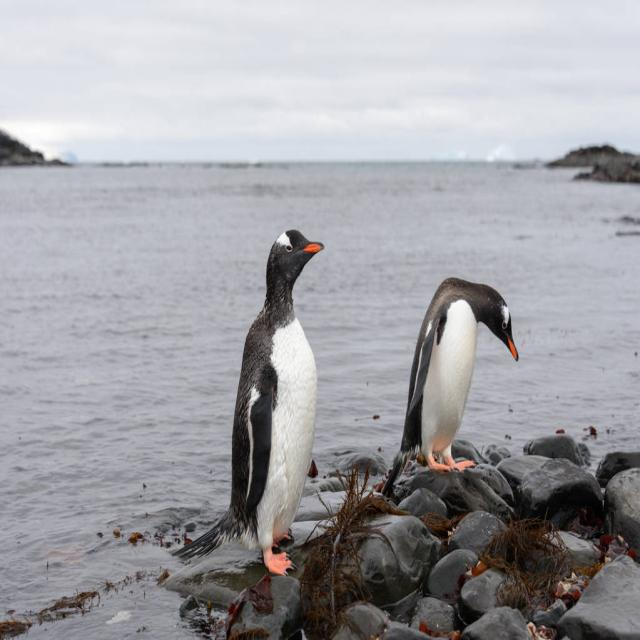Penguins: (197, 218, 333, 582), (386, 268, 522, 491)
